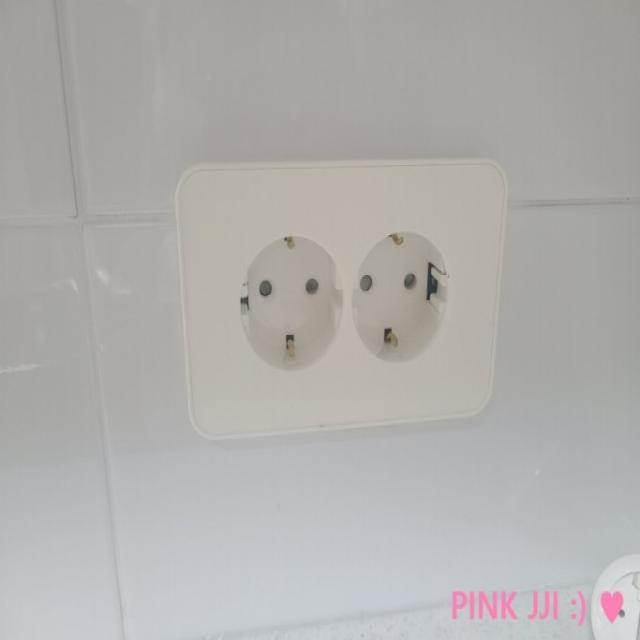typeb: (139, 101, 539, 442)
